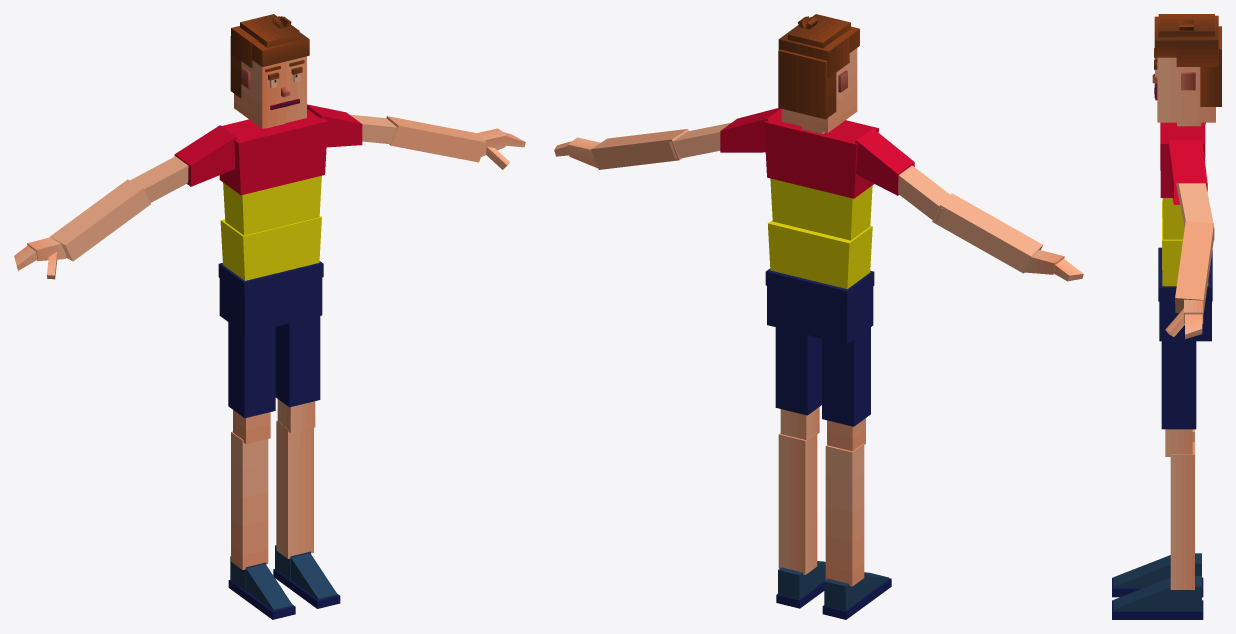
File: cubicWorldCharacter_Child.fbx
3 renders of one model, left to right at view 1: azimuth 30°, elevation 25°; view 2: azimuth 150°, elevation 25°; view 3: azimuth 270°, elevation 25°, orthographic. The views are drawn at different scales.
Parts seen in each view (by area): view 1: char_male.001; view 2: char_male.001; view 3: char_male.001.
Part boxes in pixels (x1,y1,x2,y2): char_male.001: [14, 14, 525, 619]; char_male.001: [554, 14, 1083, 619]; char_male.001: [1112, 14, 1221, 619].
Size of the model in its own units: 113 by 120 by 20.3.
